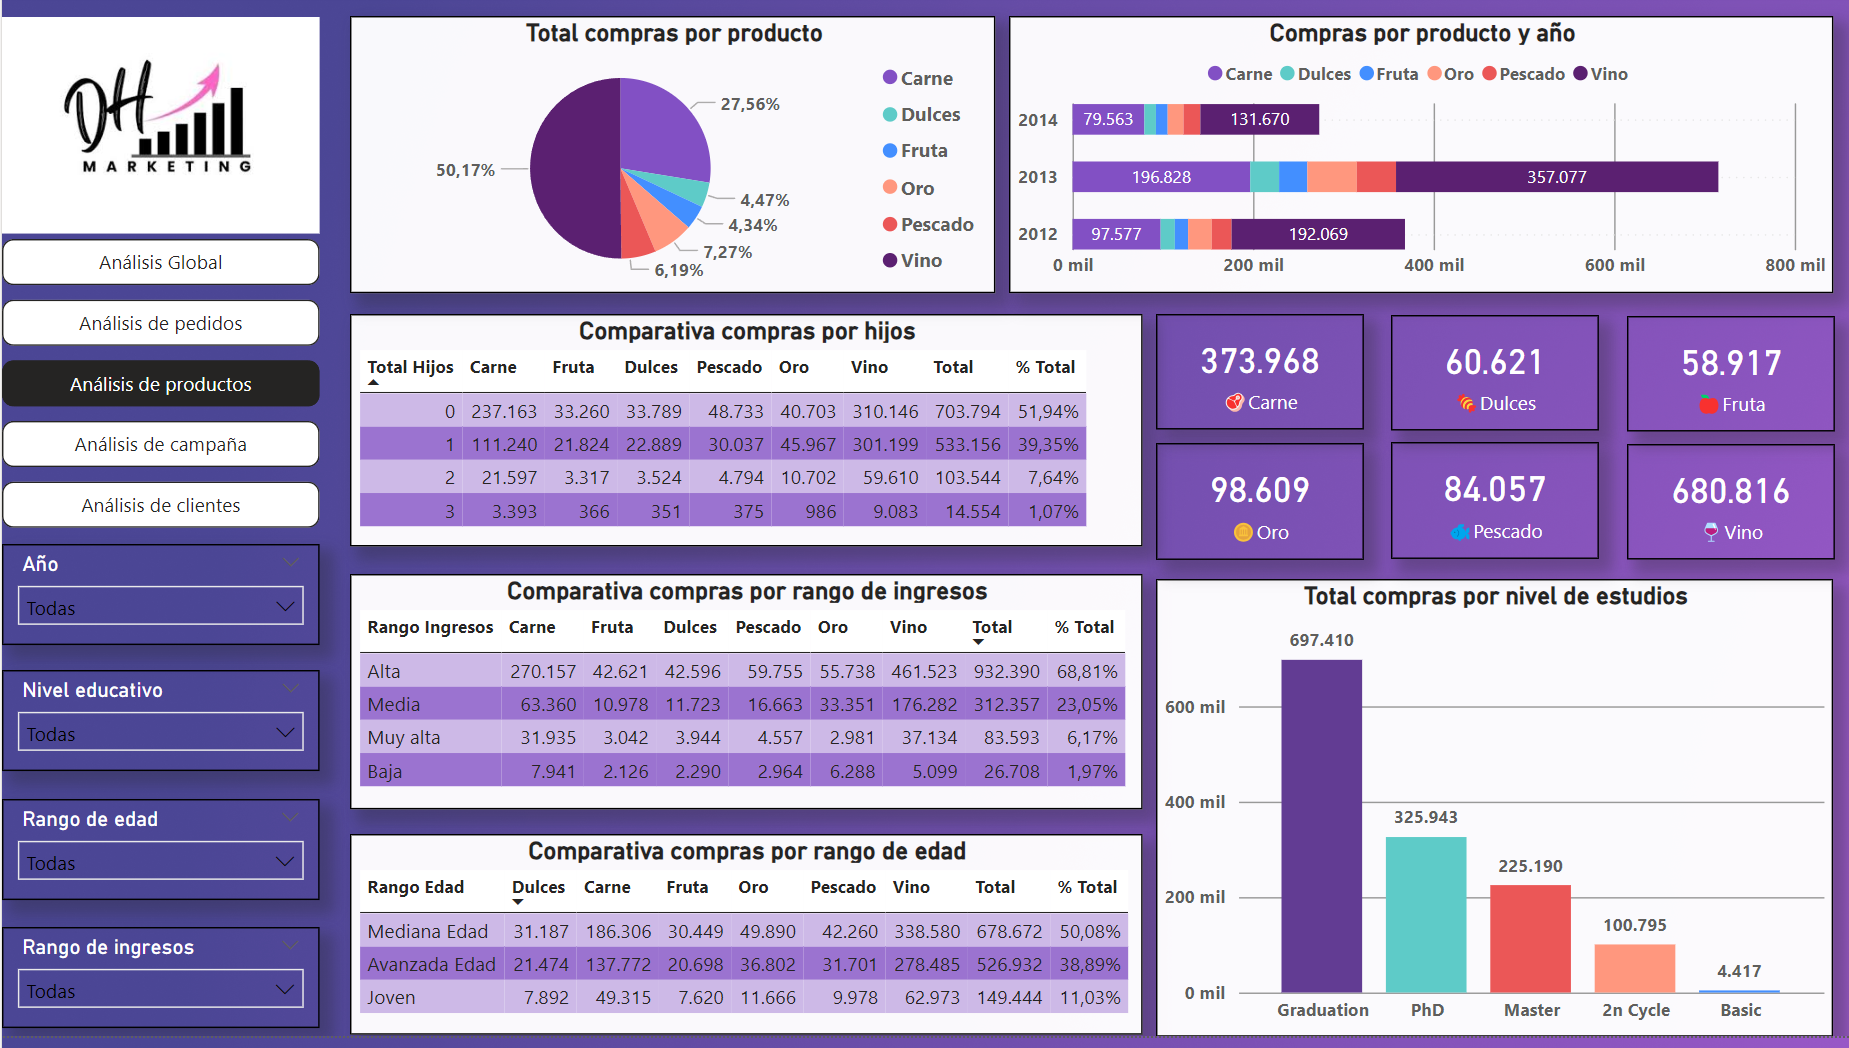

What the dashboard file says about the page in this screenshot:
{"tool":"powerbi","page":{"name":"Análisis de productos","canvas":[1280,720],"ordinal":2},"visuals":[{"type":"tableEx","title":"Comparativa compras por rango de ingresos","fields":{"Values":["marketing_campaign.Rango_Ingresos","DAX Medidas.Total compras carne","DAX Medidas.Total compras fruta","DAX Medidas.Total compras dulces","DAX Medidas.Total compras pescado","DAX Medidas.Total compras Oro","DAX Medidas.Total compras vino","DAX Medidas.Total compras","Divide(DAX Medidas.Total compras, ScopedEval(DAX Medidas.Total compras, []))"]},"box":[241.1,400.4,548.6,162.6],"z":0},{"type":"tableEx","title":"Comparativa compras por rango de edad","fields":{"Values":["marketing_campaign.Rango_Edad","DAX Medidas.Total compras dulces","DAX Medidas.Total compras carne","DAX Medidas.Total compras fruta","DAX Medidas.Total compras Oro","DAX Medidas.Total compras pescado","DAX Medidas.Total compras vino","DAX Medidas.Total compras","Divide(DAX Medidas.Total compras, ScopedEval(DAX Medidas.Total compras, []))"]},"box":[241.1,580.6,548.6,139.4],"z":1000},{"type":"tableEx","title":"Comparativa compras por hijos","fields":{"Values":["marketing_campaign.Total_Hijos","DAX Medidas.Total compras carne","DAX Medidas.Total compras fruta","DAX Medidas.Total compras dulces","DAX Medidas.Total compras pescado","DAX Medidas.Total compras Oro","DAX Medidas.Total compras vino","DAX Medidas.Total compras","Divide(DAX Medidas.Total compras, ScopedEval(DAX Medidas.Total compras, []))"]},"box":[241.1,220.1,548.6,161.5],"z":2000},{"type":"pieChart","title":"Total compras por producto","fields":{"Y":["DAX Medidas.Total compras carne","DAX Medidas.Total compras dulces","DAX Medidas.Total compras fruta","DAX Medidas.Total compras Oro","DAX Medidas.Total compras pescado","DAX Medidas.Total compras vino"]},"box":[240.7,13.8,447.5,191.9],"z":3000},{"type":"barChart","title":"Compras por producto y año","fields":{"Category":["Calendario.Año"],"Y":["DAX Medidas.Total compras carne","DAX Medidas.Total compras dulces","DAX Medidas.Total compras fruta","DAX Medidas.Total compras Oro","DAX Medidas.Total compras pescado","DAX Medidas.Total compras vino"]},"box":[697.7,14.1,571.2,191.7],"z":4000},{"type":"clusteredColumnChart","title":"Total compras por nivel de estudios","fields":{"Y":["DAX Medidas.Total compras"],"Category":["D_Nivel_Estudios.Nivel_Estudios"]},"box":[799.6,403.7,468.9,317.4],"z":5000},{"type":"image","box":[0,14.5,220,150],"z":6000},{"type":"card","fields":{"Values":["DAX Medidas.Fruta"]},"box":[1125.5,221.4,143.6,80],"z":7000},{"type":"card","fields":{"Values":["DAX Medidas.Dulces"]},"box":[962.2,221.2,143.8,79.6],"z":8000},{"type":"card","fields":{"Values":["DAX Medidas.Pescado"]},"box":[962.2,308.6,143.8,80.7],"z":9000},{"type":"card","fields":{"Values":["DAX Medidas.Vino"]},"box":[1125.5,310.1,143.6,80],"z":10000},{"type":"card","fields":{"Values":["DAX Medidas.Carne"]},"box":[799.6,220.1,143.8,79.6],"z":11000},{"type":"card","fields":{"Values":["DAX Medidas.Oro"]},"box":[799.6,309.7,143.8,80.7],"z":12000},{"type":"slicer","fields":{"Values":["Calendario.Año"]},"box":[0,379.4,220.1,69.7],"z":13000},{"type":"slicer","fields":{"Values":["D_Ingresos.Rango_Ingresos"]},"box":[0,644.5,219.9,70.3],"z":14000},{"type":"slicer","fields":{"Values":["D_Edad.Rango_Edad"]},"box":[0,556.5,219.8,70.4],"z":15000},{"type":"pageNavigator","box":[0,168.1,220.1,200.2],"z":16000},{"type":"slicer","fields":{"Values":["D_Nivel_Estudios.Nivel_Estudios"]},"box":[0,466.7,220.1,69.7],"z":17000}]}

Visuals, with their boxes on the page's 1280x720 design canvas (x1, y1, x2, y2). These are canvas units, not pixel positions in the 1849x1048 screenshot, which may show the page scaled, cropped or inside an application window:
"Comparativa compras por rango de ingresos" tableEx: select_region(241, 400, 790, 563)
"Comparativa compras por rango de edad" tableEx: select_region(241, 581, 790, 720)
"Comparativa compras por hijos" tableEx: select_region(241, 220, 790, 382)
"Total compras por producto" pieChart: select_region(241, 14, 688, 206)
"Compras por producto y año" barChart: select_region(698, 14, 1269, 206)
"Total compras por nivel de estudios" clusteredColumnChart: select_region(800, 404, 1268, 721)
image: select_region(0, 14, 220, 164)
card - DAX Medidas.Fruta: select_region(1126, 221, 1269, 301)
card - DAX Medidas.Dulces: select_region(962, 221, 1106, 301)
card - DAX Medidas.Pescado: select_region(962, 309, 1106, 389)
card - DAX Medidas.Vino: select_region(1126, 310, 1269, 390)
card - DAX Medidas.Carne: select_region(800, 220, 943, 300)
card - DAX Medidas.Oro: select_region(800, 310, 943, 390)
slicer - Calendario.Año: select_region(0, 379, 220, 449)
slicer - D_Ingresos.Rango_Ingresos: select_region(0, 644, 220, 715)
slicer - D_Edad.Rango_Edad: select_region(0, 556, 220, 627)
pageNavigator: select_region(0, 168, 220, 368)
slicer - D_Nivel_Estudios.Nivel_Estudios: select_region(0, 467, 220, 536)
